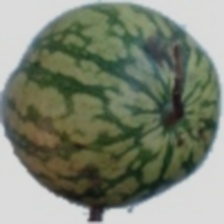watermelon: (43, 56, 207, 194)
